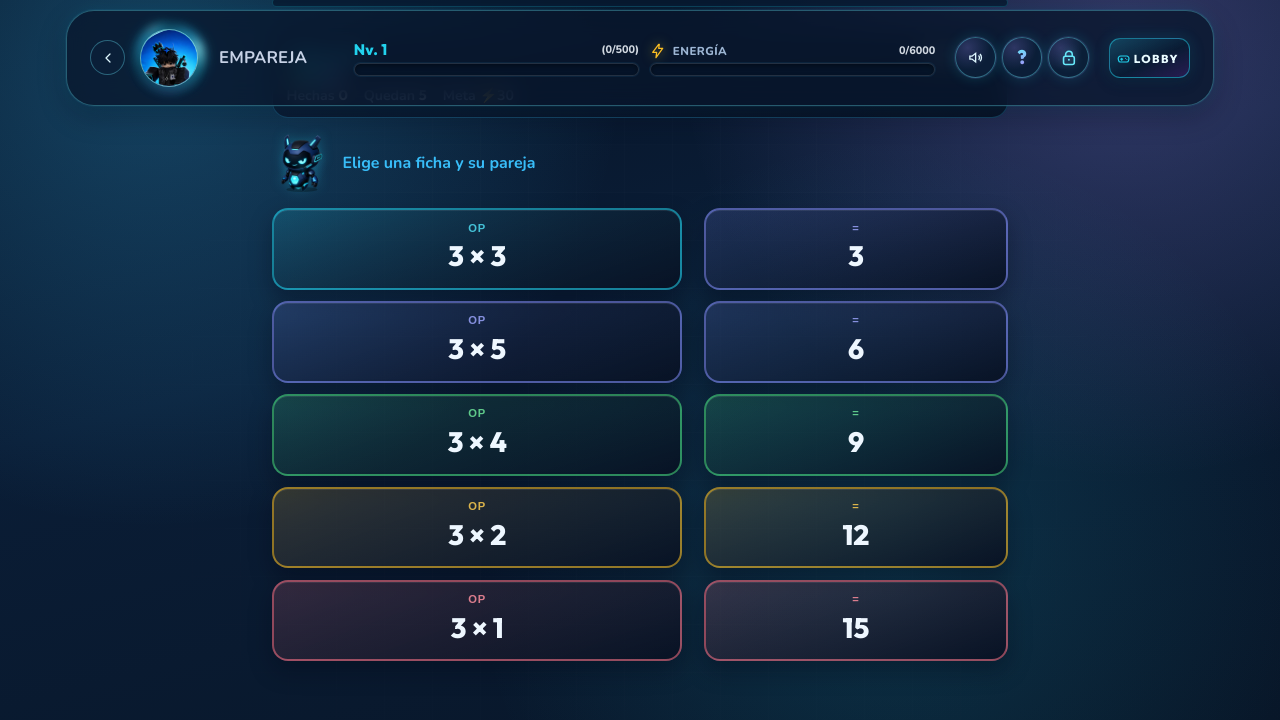
Test: Empareja la tabla — pantalla › muestra pistas progresivas en la misma operación
The width and height of the screenshot is (1280, 720).
(page scrolled)
Click the button named "resultado 12" at (856, 528), box [704,487,1008,568]
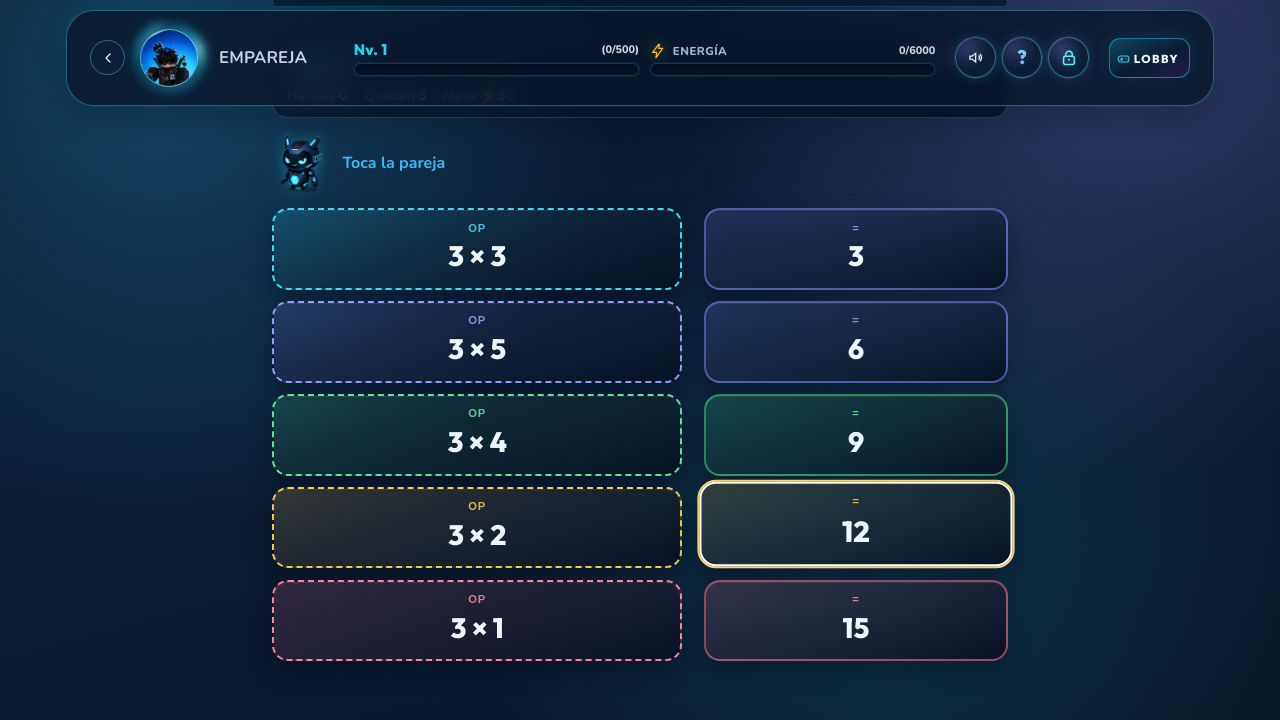
Click the button "Op 3 × 3" at (477, 249), box [272,208,682,290]
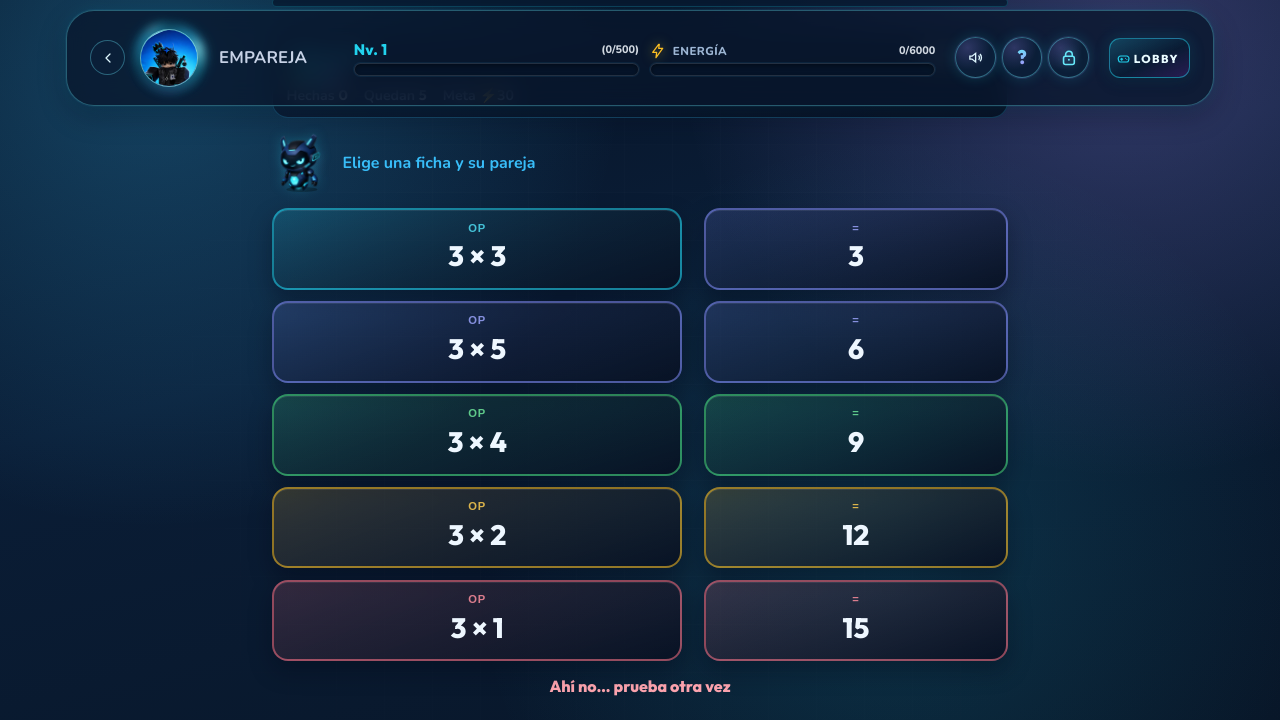
Expected: the text "Ahí no… prueba otra vez" is shown, [549,676,731,696]
Click the button named "resultado 12" at (856, 528), box [704,487,1008,568]
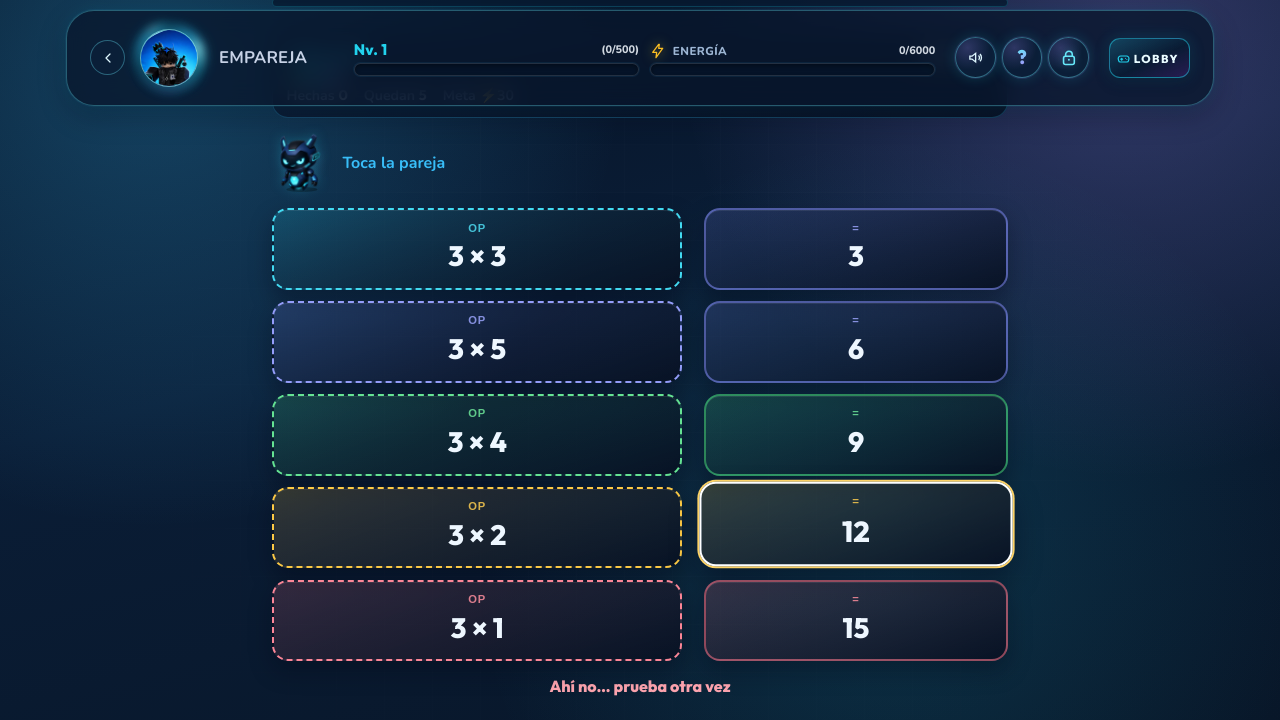
Click the button "Op 3 × 3" at (477, 249), box [272,208,682,290]
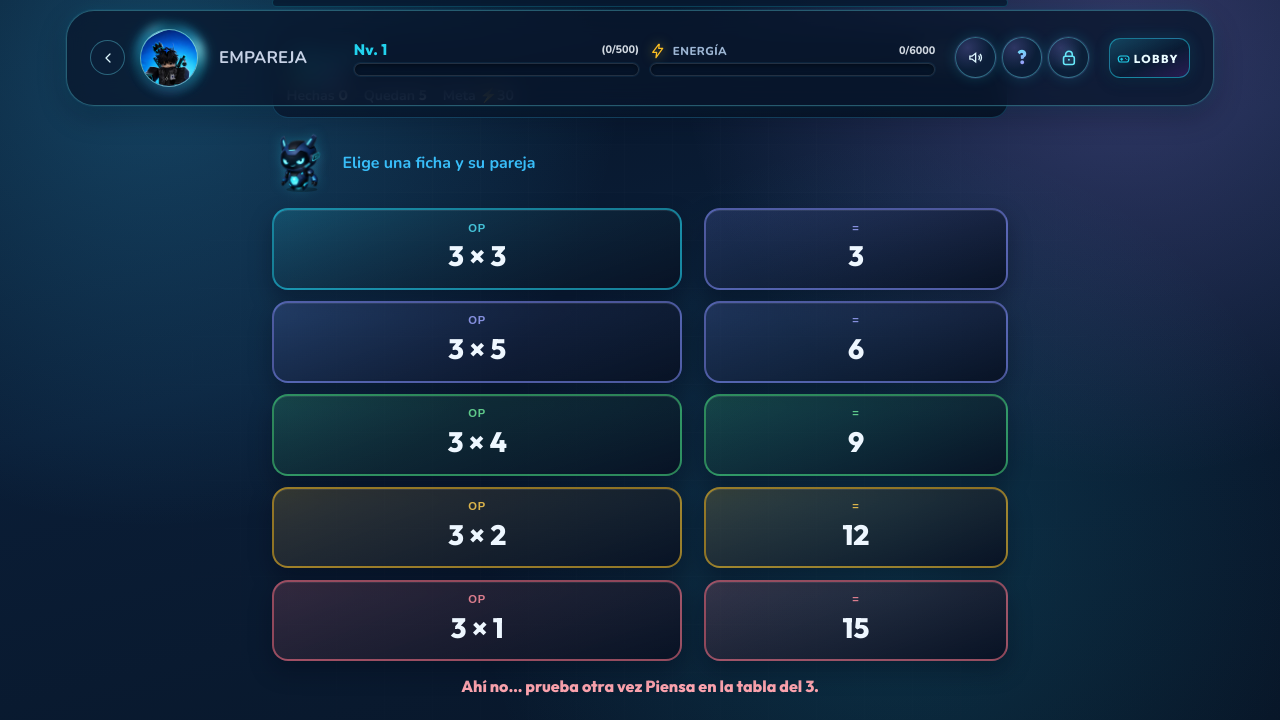
Expected: the text "Ahí no… prueba otra vez Piensa en la tabla del 3." is shown, [461,676,819,696]
Click the button named "resultado 12" at (856, 528), box [704,487,1008,568]
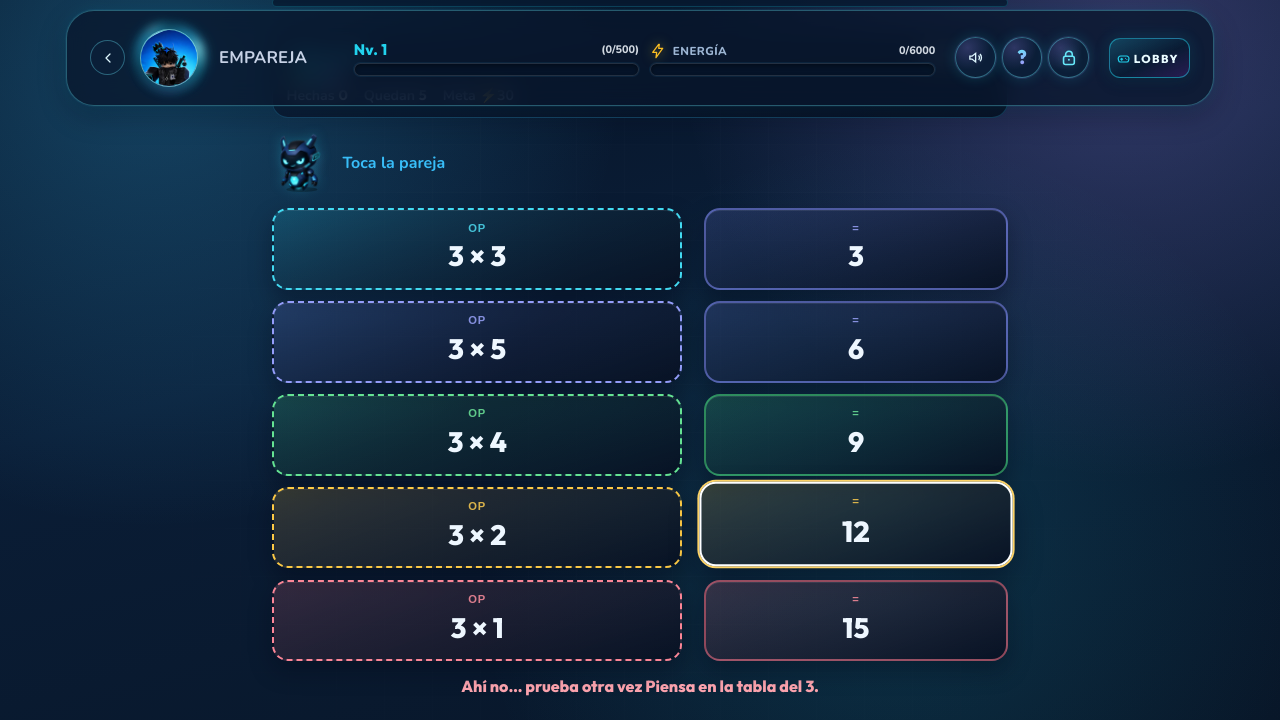
Click the button "Op 3 × 3" at (477, 249), box [272,208,682,290]
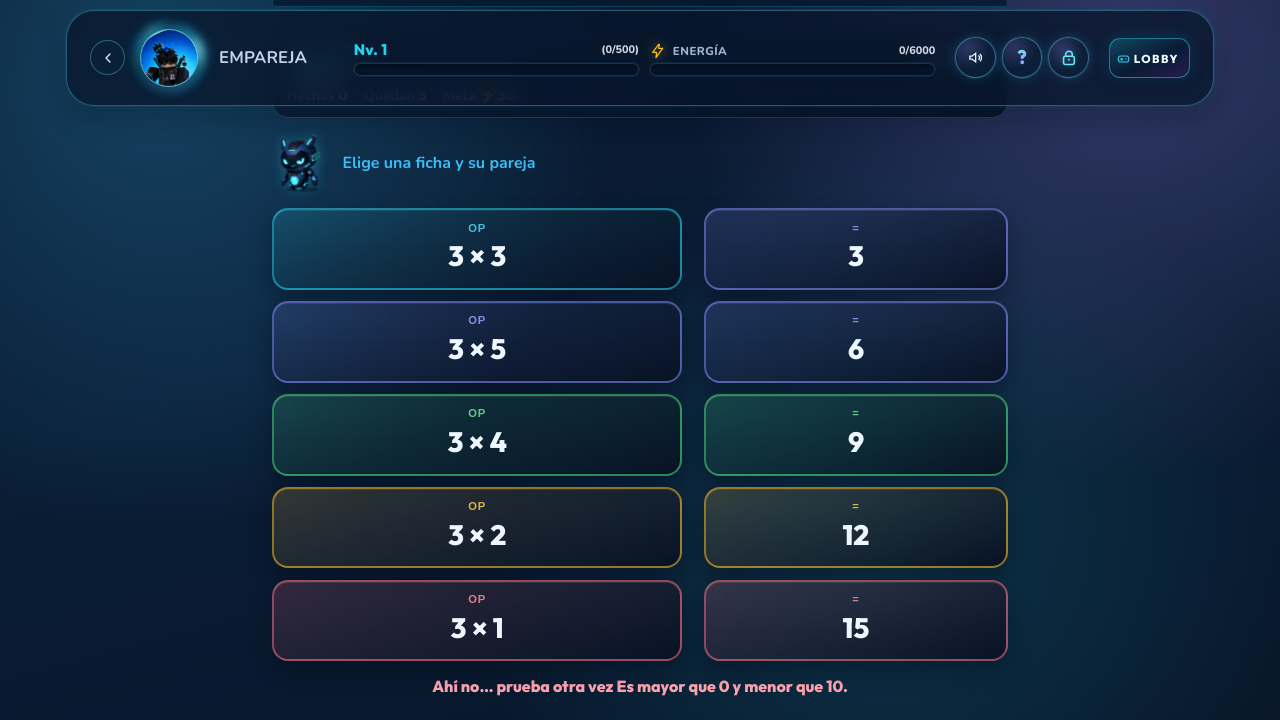
Expected: the text "Ahí no… prueba otra vez Es mayor que 0 y menor que 10." is shown, [432,676,848,696]
